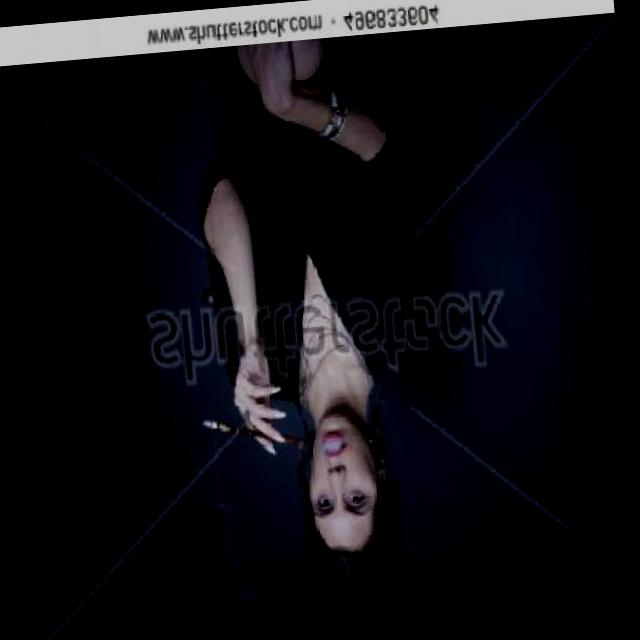cigarette: (200, 414, 236, 439)
